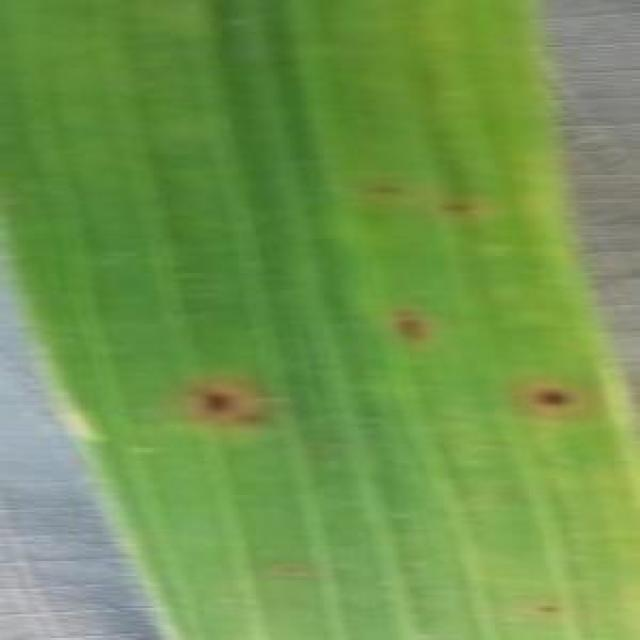brownspots: (179, 378, 275, 428), (531, 384, 604, 422), (395, 308, 448, 342)
